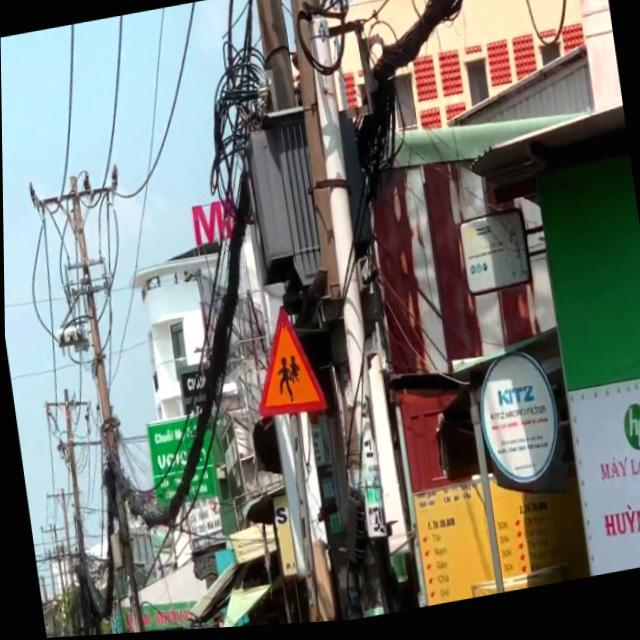Tre em: (244, 303, 327, 425)
